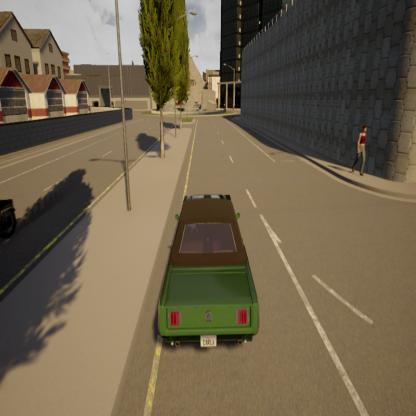Cars: (151, 166, 261, 387)
Pedestrian: (352, 112, 381, 212)
